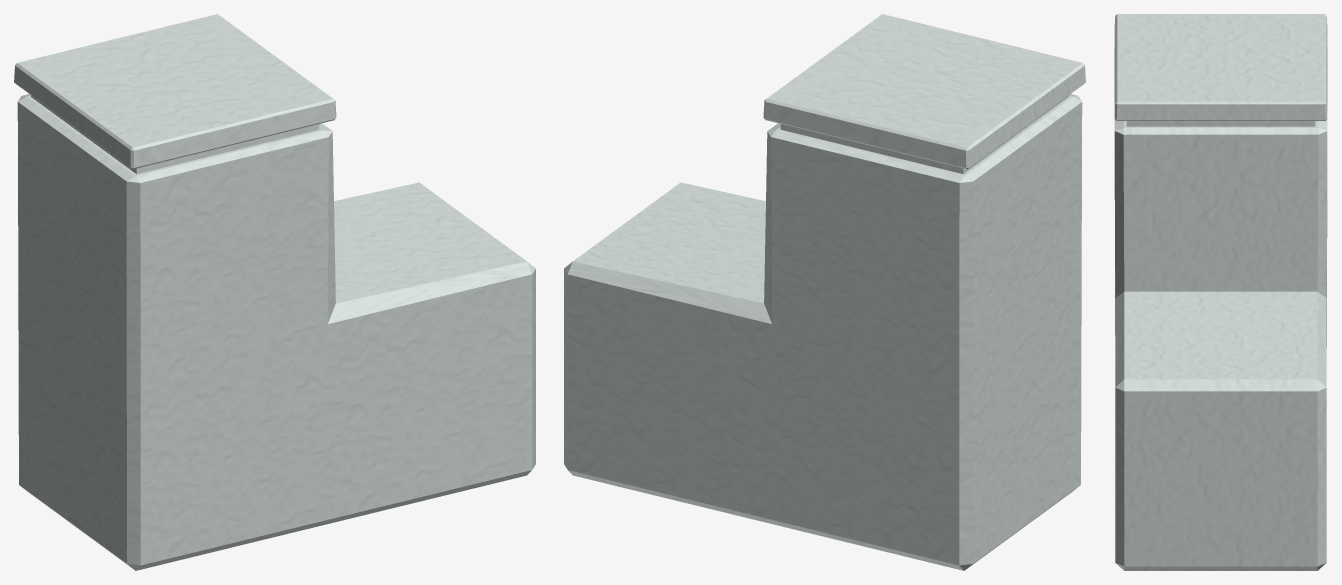
File: Lji1.fbx
The picture shows the model from 3 angles, left to right: view 1: azimuth 30°, elevation 25°; view 2: azimuth 150°, elevation 25°; view 3: azimuth 270°, elevation 25°; orthographic projection. The views are drawn at different scales.
Parts seen in each view (by area): view 1: pCube32; view 2: pCube32; view 3: pCube32.
Part boxes in pixels (bbox=[...]): pCube32: bbox=[14, 14, 535, 570]; pCube32: bbox=[564, 14, 1085, 570]; pCube32: bbox=[1114, 14, 1327, 570].
Bounding box in the file's own units: 2 × 2 × 1.01.
Materials: 1 (1 with a texture image).
